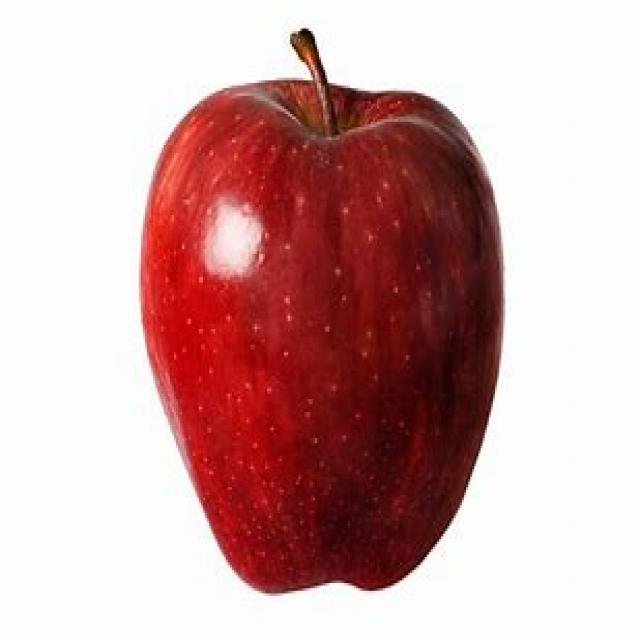Apple: (136, 29, 508, 596)
